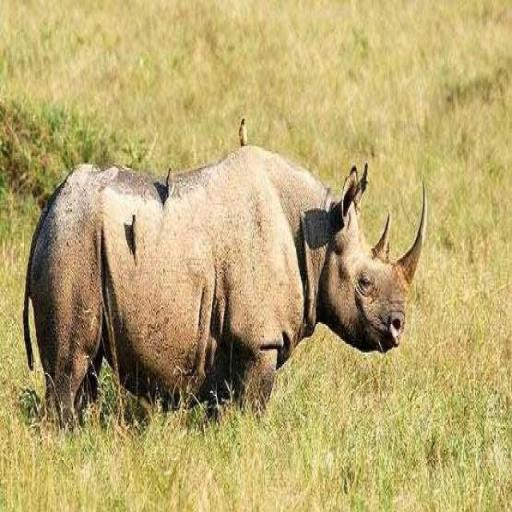Rhino: (22, 136, 428, 437)
